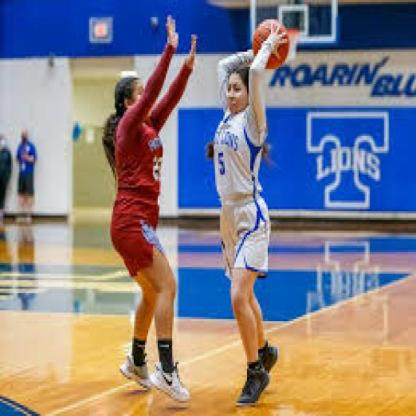basketball: (252, 19, 290, 71)
